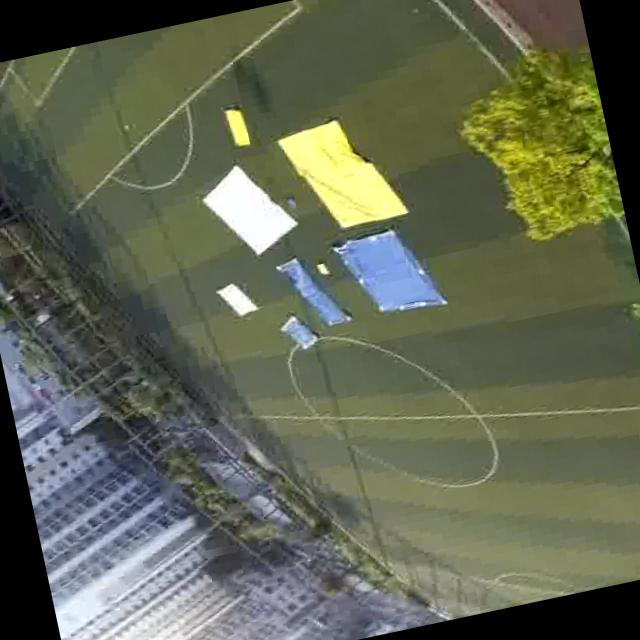danger: (332, 220, 440, 320), (276, 312, 324, 350), (276, 255, 318, 297)
safety: (198, 158, 292, 259), (216, 279, 260, 318)
warning: (289, 116, 387, 234), (226, 110, 248, 146)
